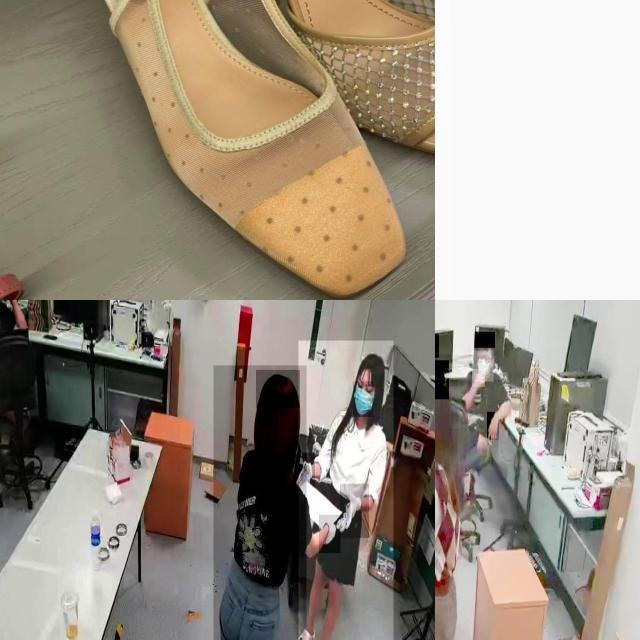Sandals: (46, 0, 422, 300), (170, 0, 435, 180)
face_mask: (353, 381, 373, 417), (472, 351, 493, 382)
hand_glove: (340, 484, 369, 538), (319, 515, 341, 554), (292, 453, 315, 488)
hand_noglove: (487, 412, 499, 441), (472, 369, 486, 388), (4, 300, 18, 305)
head_nohelmet: (256, 370, 300, 409), (355, 352, 387, 374), (435, 360, 449, 400), (474, 332, 496, 348), (435, 333, 439, 358)
person: (298, 340, 393, 640), (213, 365, 306, 640), (466, 326, 514, 464)
